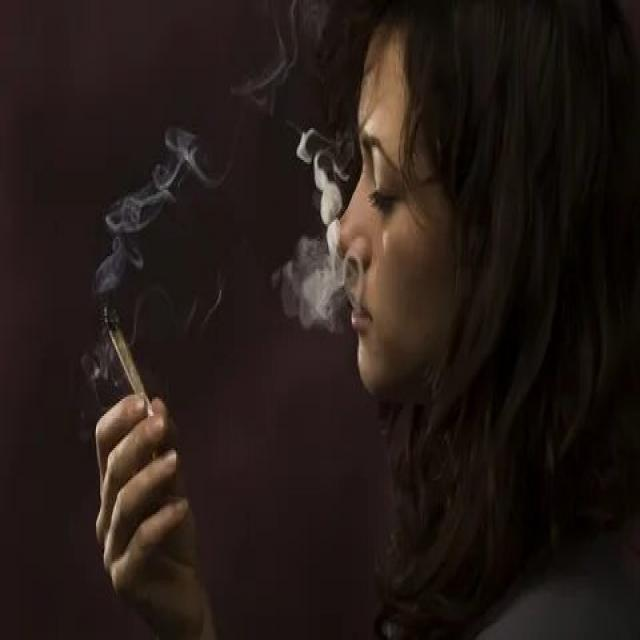cigarette: (101, 303, 159, 420)
